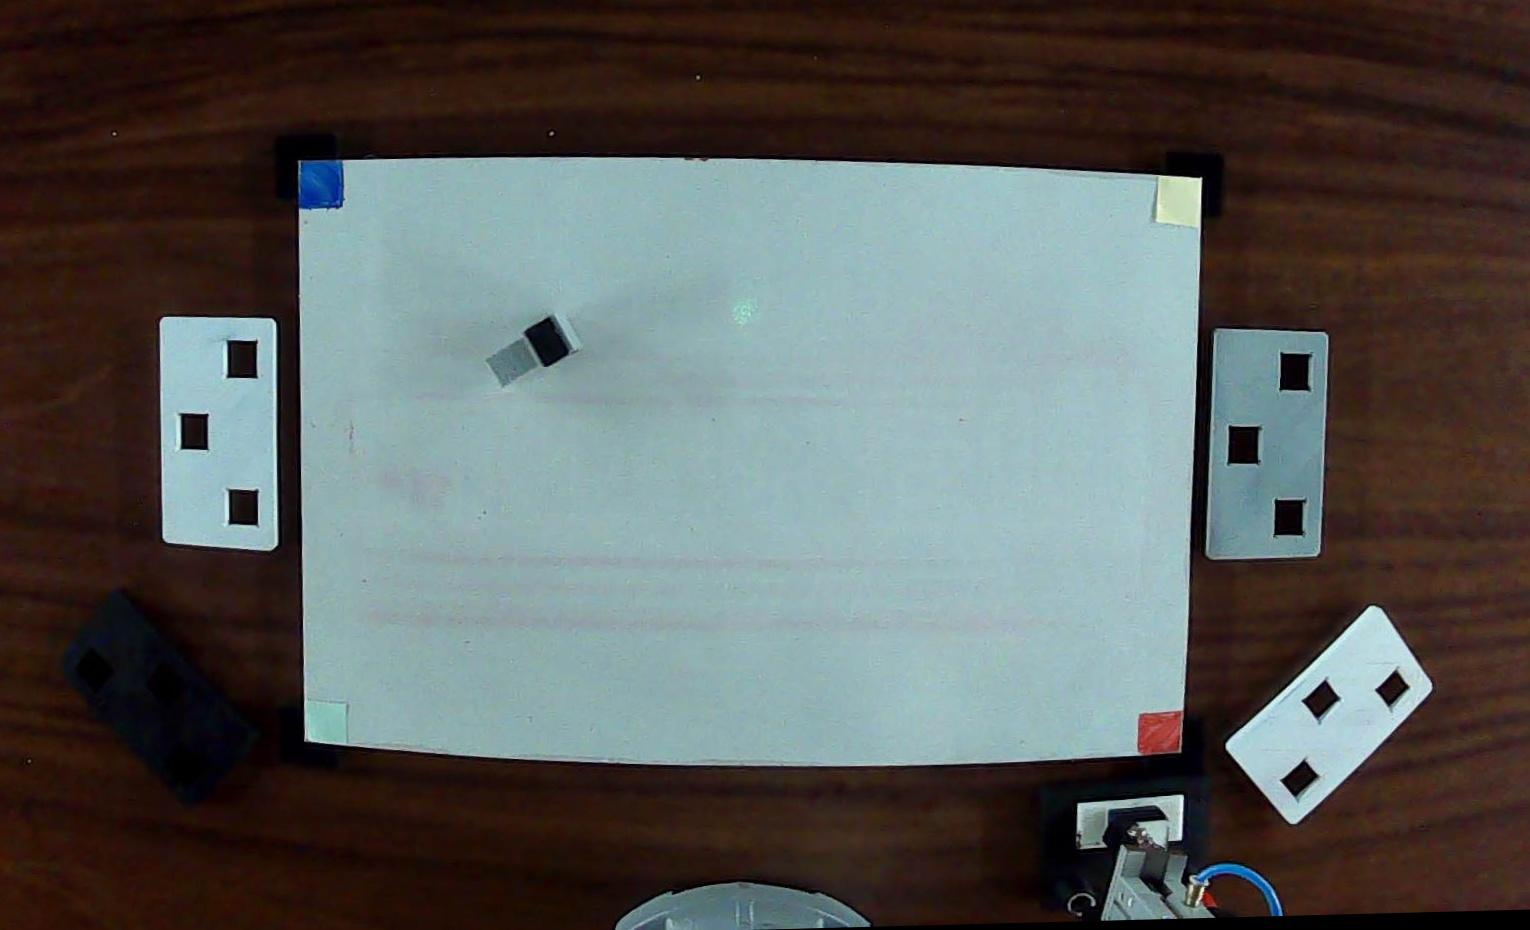pecaCinzaCaida: (481, 306, 589, 396)
